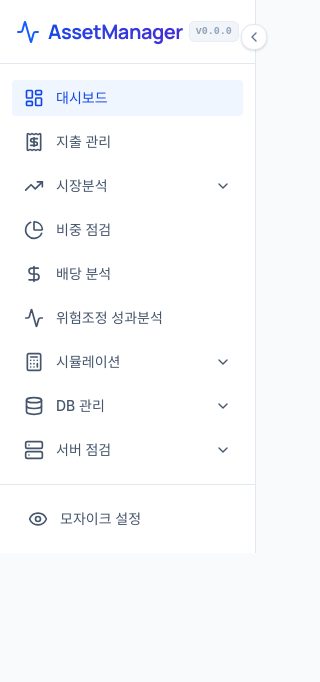
Scenario: Sidebar Component › 사이드바가 접힌 상태에서 DB 관리 클릭 시 사이드바가 펼쳐지고 하위 메뉴가 보여야 한다
 사이드바 접기
Click the button named "사이드바 접기" at (254, 37), box [241,24,267,50]
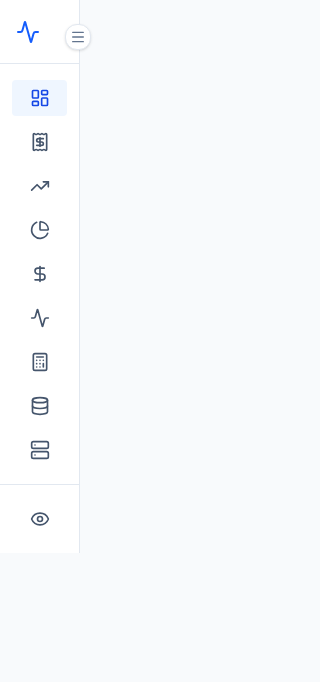
Expected: the text "대시보드" is gone
DB 관리 아이콘 클릭 (title로 찾음)
Click the button titled "DB 관리" at (40, 406), box [12,388,67,424]
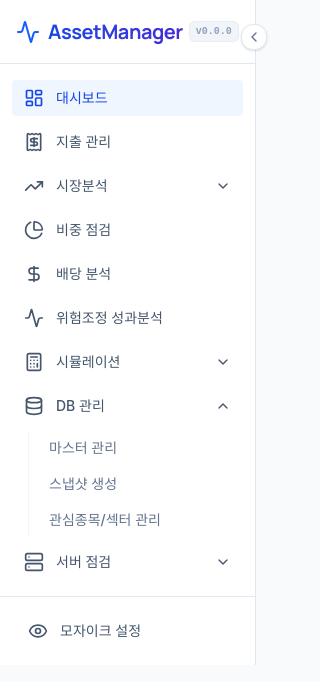
Expected: the text "대시보드" is shown, [56,88,108,108]
Expected: the text "마스터 관리" is shown, [49,438,117,458]
